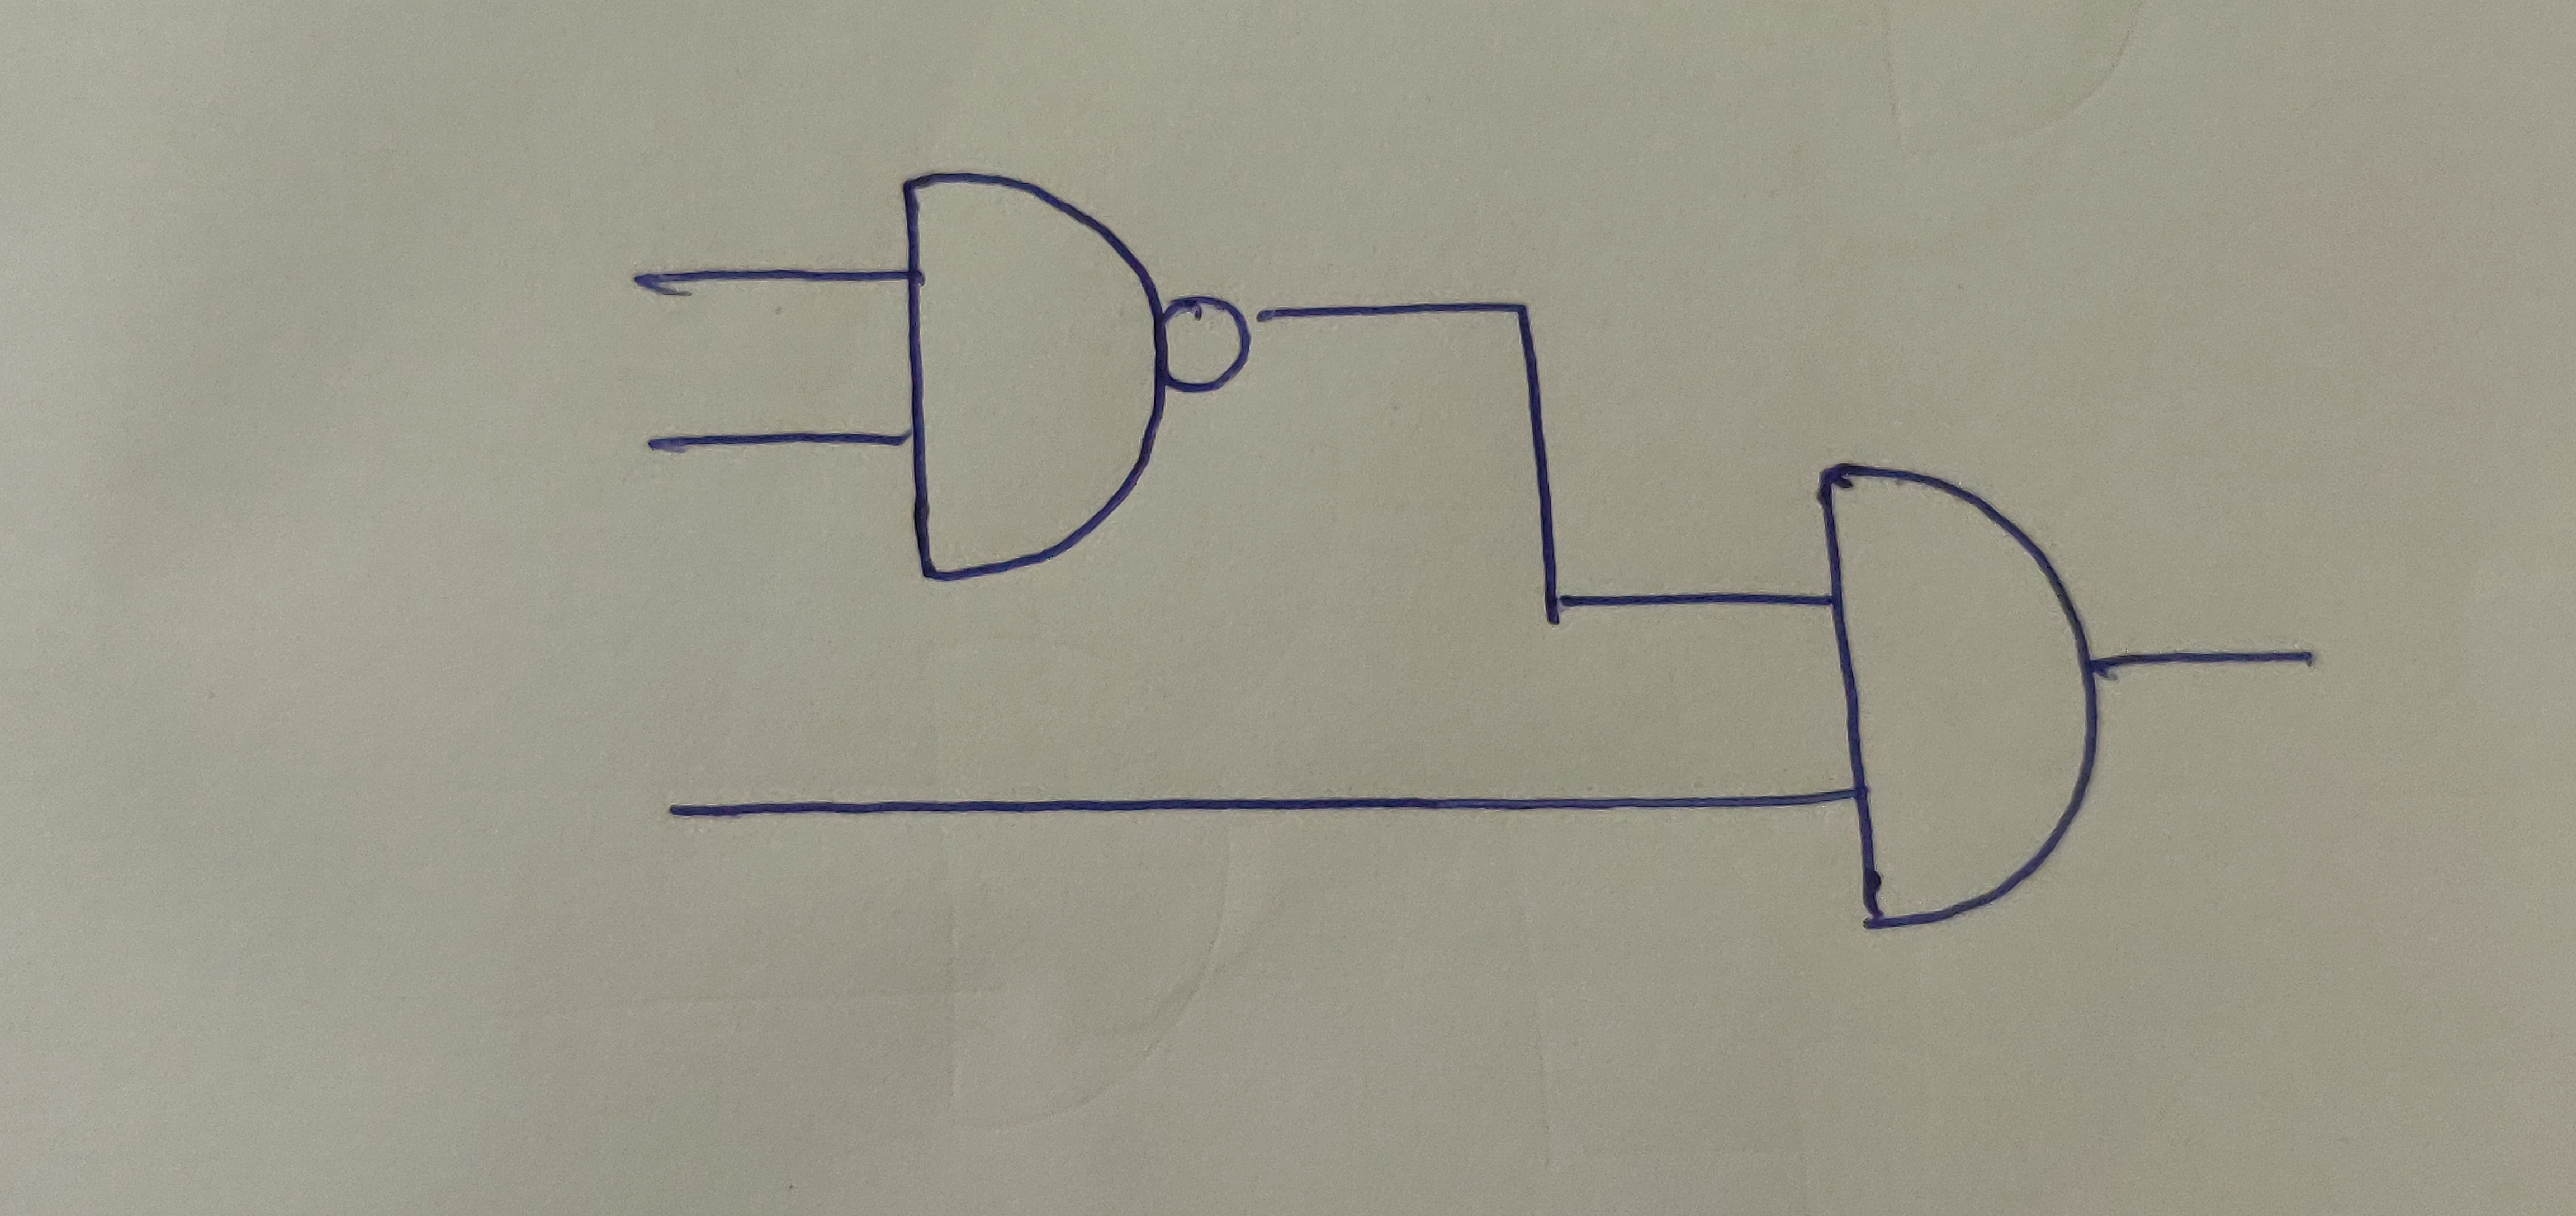and: (1815, 460, 2106, 935), (904, 169, 1161, 582)
not: (1157, 294, 1255, 396)
